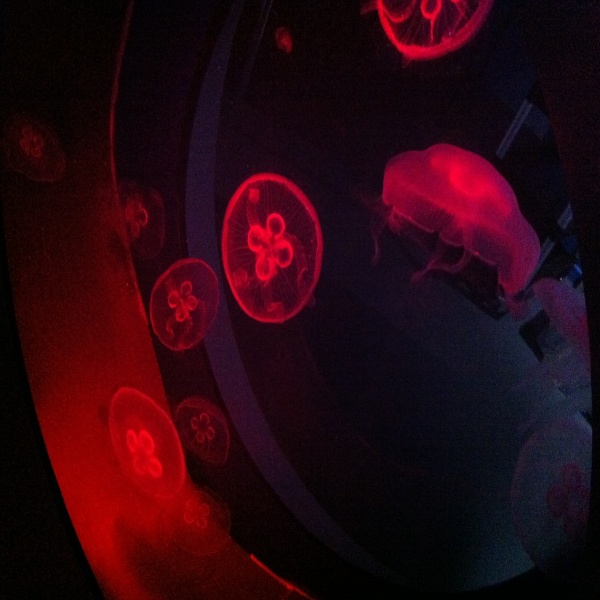Jellyfish: (357, 138, 541, 309), (219, 173, 322, 324), (108, 386, 183, 499), (360, 0, 492, 64), (150, 262, 222, 352), (0, 118, 71, 184), (169, 396, 230, 470), (112, 180, 163, 258)
